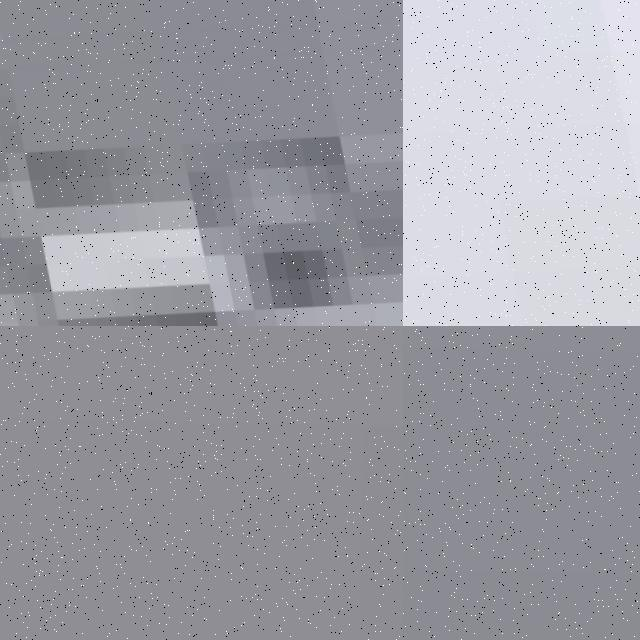drone: (0, 0, 403, 326), (403, 0, 640, 326)
